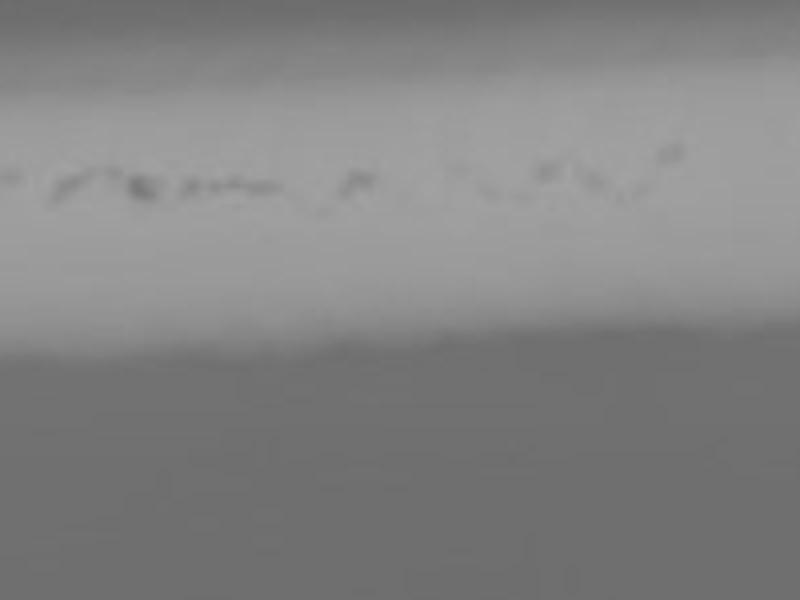defect: (50, 168, 91, 204), (333, 169, 375, 202), (126, 169, 165, 202), (574, 163, 609, 192), (659, 134, 690, 162), (244, 176, 284, 197), (630, 175, 661, 202), (473, 178, 502, 206), (534, 153, 563, 179), (508, 186, 540, 207), (1, 161, 21, 189), (180, 172, 199, 198), (100, 160, 123, 179), (226, 172, 244, 191), (204, 176, 220, 194), (612, 186, 627, 203)
